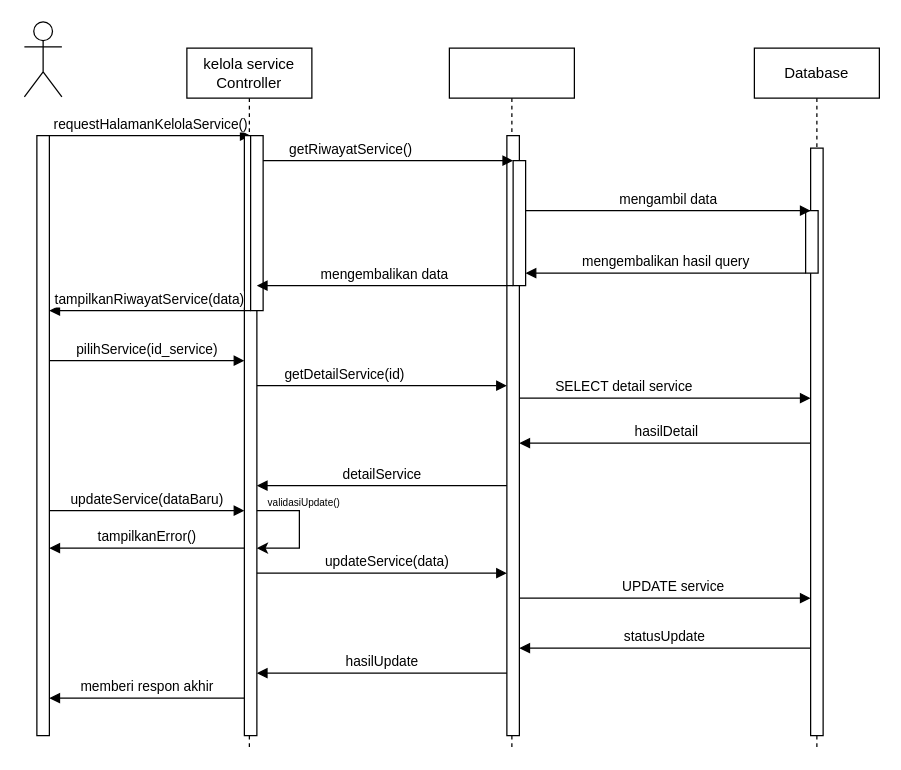
This 901x770 diagram has some shape labels left out. Each missing label, with the box of its shape:
Admin: (23, 21, 62, 97)
kelola service Model: (448, 47, 574, 748)
